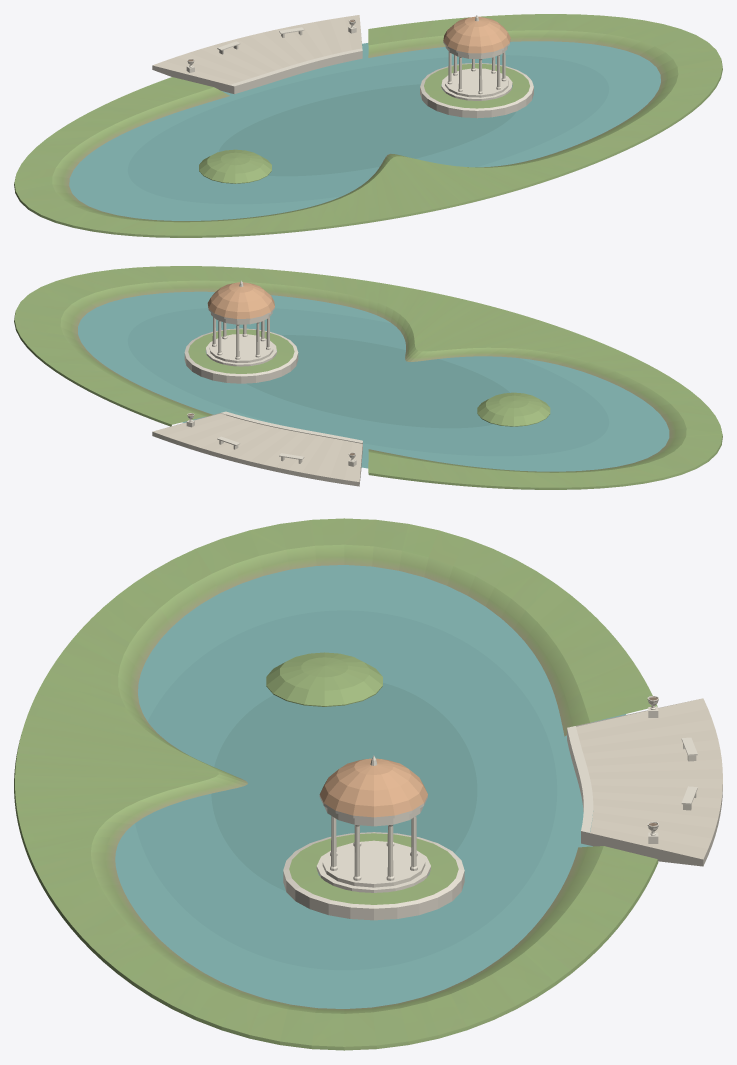
File: SM_BM_BHip_Pond.glb
3 renders of one model, top to bottom at view 1: azimuth 30°, elevation 25°; view 2: azimuth 150°, elevation 25°; view 3: azimuth 270°, elevation 25°, orthographic. The views are drawn at different scales.
Visible parts, largest first — view 1: SM_BM_BHip_Pond; view 2: SM_BM_BHip_Pond; view 3: SM_BM_BHip_Pond.
Part boxes in pixels (left/top/right/bottom): SM_BM_BHip_Pond: left=14, top=14, right=722, bottom=237; SM_BM_BHip_Pond: left=14, top=266, right=722, bottom=489; SM_BM_BHip_Pond: left=14, top=518, right=722, bottom=1050.
Size of the model in its own units: 63.5 by 8.3 by 35.95.
